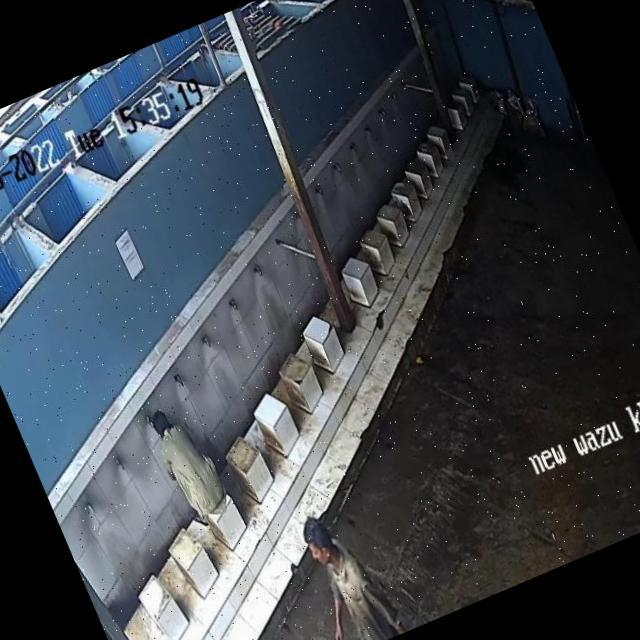person: (293, 496, 403, 640), (142, 398, 234, 520)
